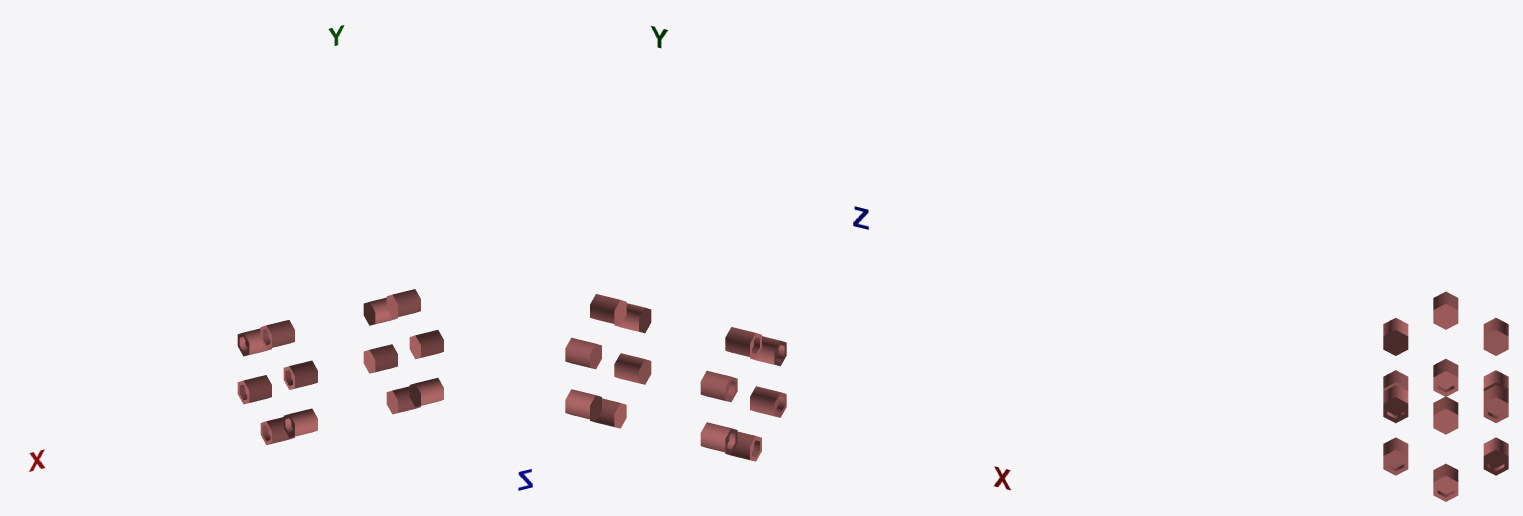
Rendered from fileName.gltf.
The picture shows the model from 3 angles, left to right: view 1: azimuth 30°, elevation 25°; view 2: azimuth 150°, elevation 25°; view 3: azimuth 270°, elevation 25°; orthographic projection. The views are drawn at different scales.
Visible parts, largest first — view 1: csg (×12); view 2: csg (×12); view 3: csg (×10).
Part boxes in pixels (x1,y1,x2,y2): csg (×12): (237,289,443,444); csg (×12): (565,294,786,461); csg (×10): (1383,291,1508,501).
Size of the model in its own units: 467 by 447 by 418.
15 materials, 3 textured.
